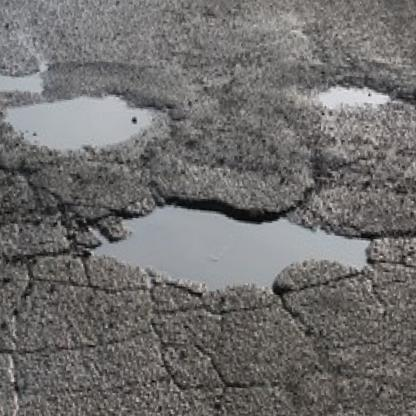pothole: (86, 189, 382, 310)
